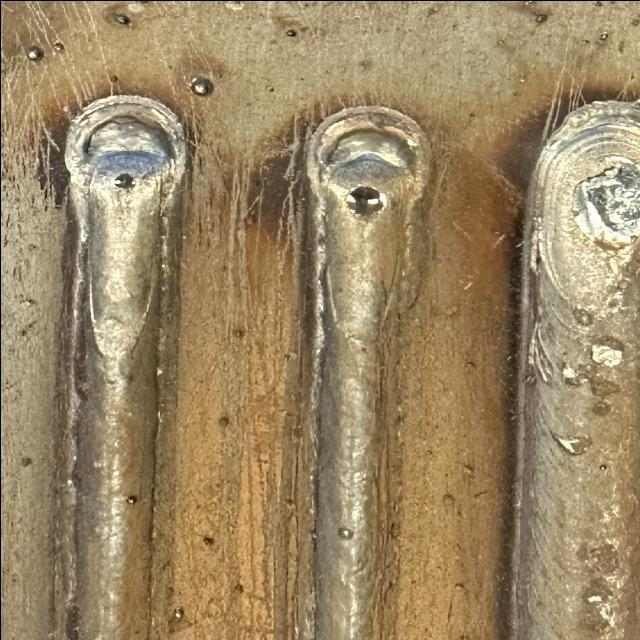Spatters: (190, 76, 213, 96), (25, 46, 43, 61), (110, 13, 130, 25), (337, 528, 353, 539), (230, 328, 245, 339), (442, 494, 455, 506), (217, 415, 228, 428), (533, 12, 547, 22), (52, 41, 63, 52), (125, 495, 137, 504), (173, 608, 183, 618), (202, 536, 213, 545), (285, 29, 297, 36), (598, 31, 607, 40), (310, 530, 318, 540), (107, 75, 118, 82), (453, 582, 463, 589), (598, 464, 607, 470)
